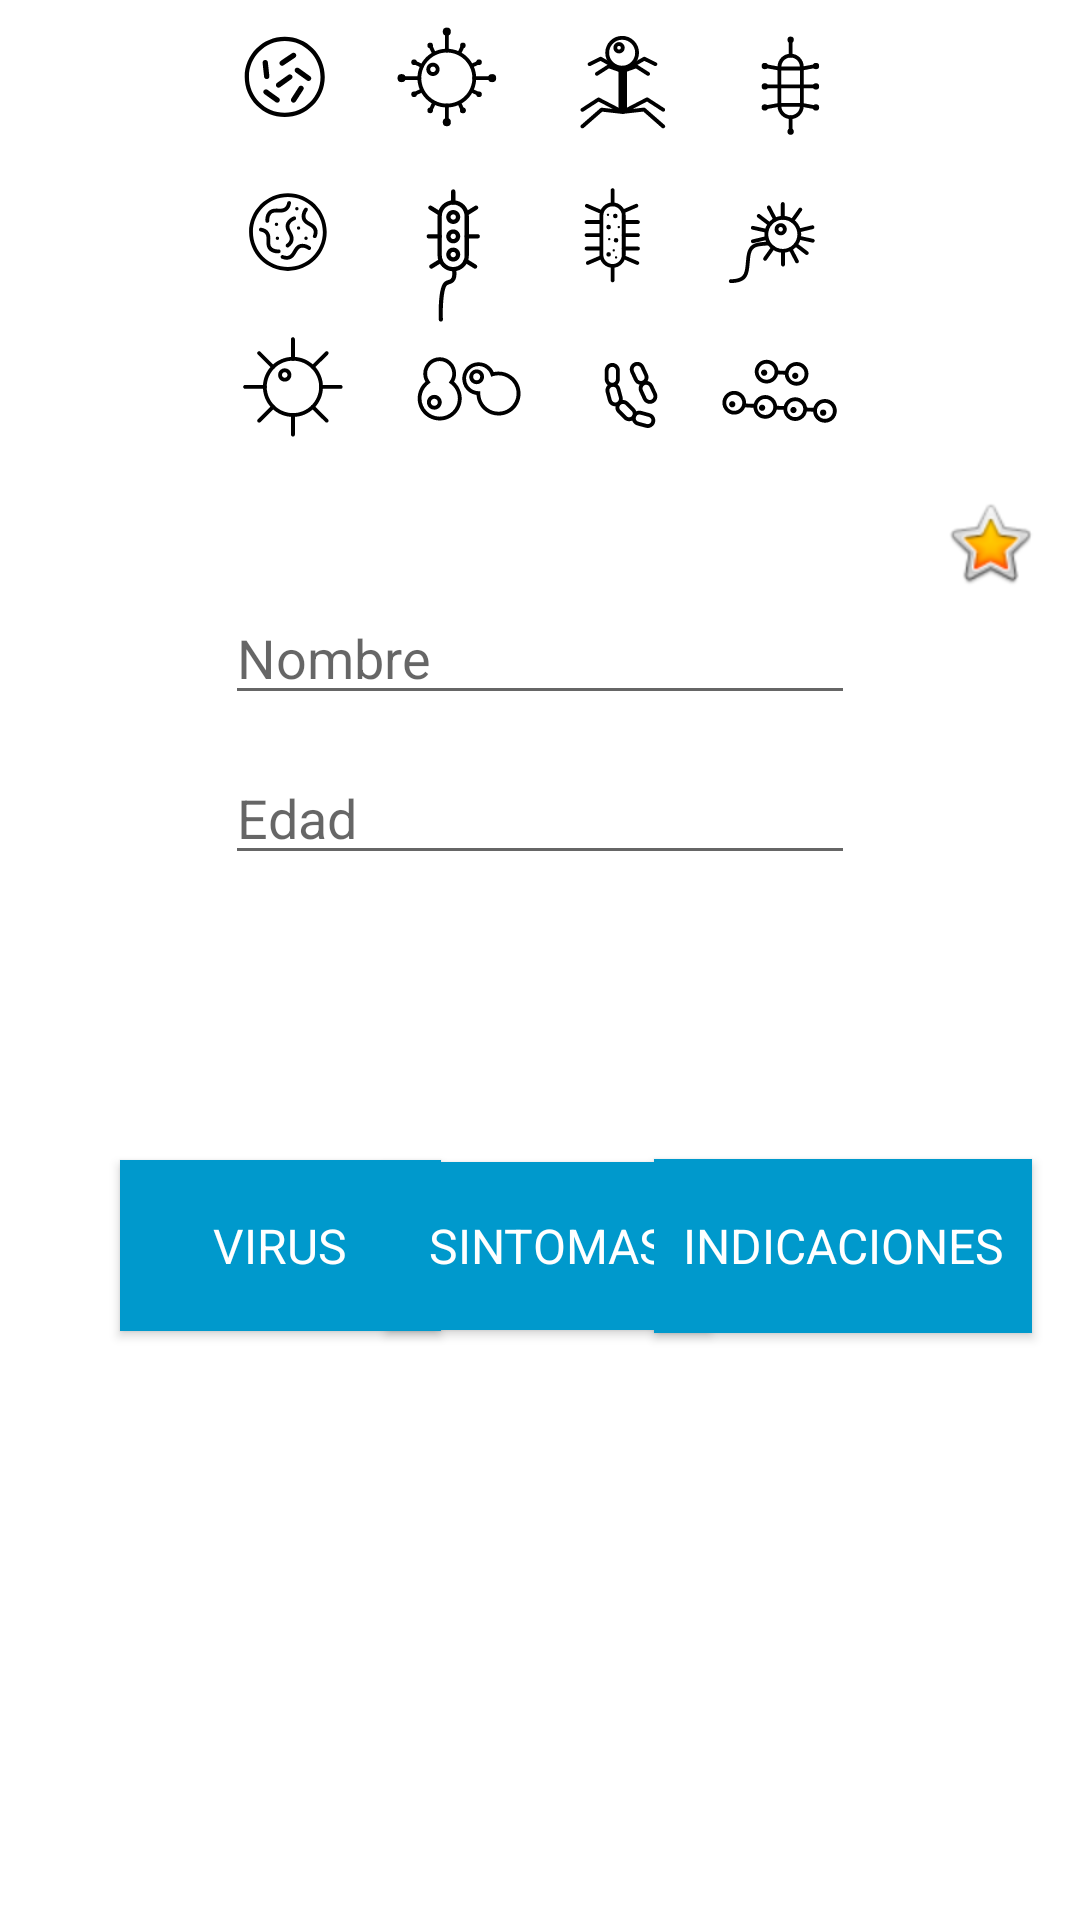

Icon click points for this 1080px x 1920px phone screenshot, format (x,y):
star on: (991,544)
